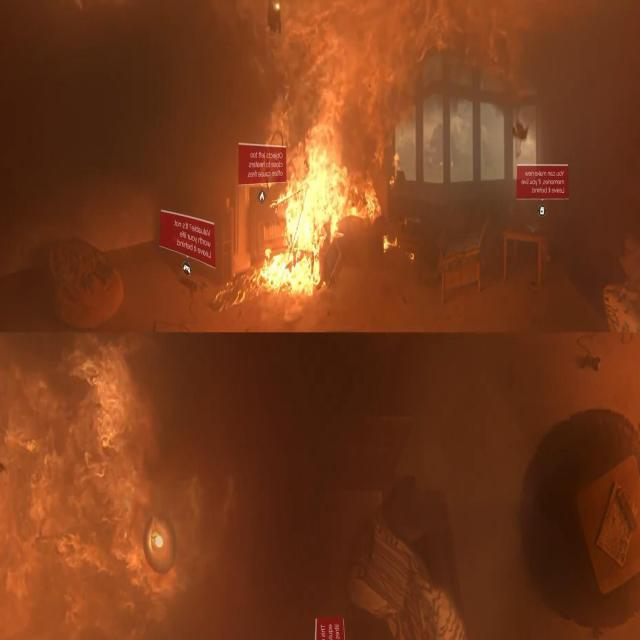smoke: (226, 103, 380, 307)
